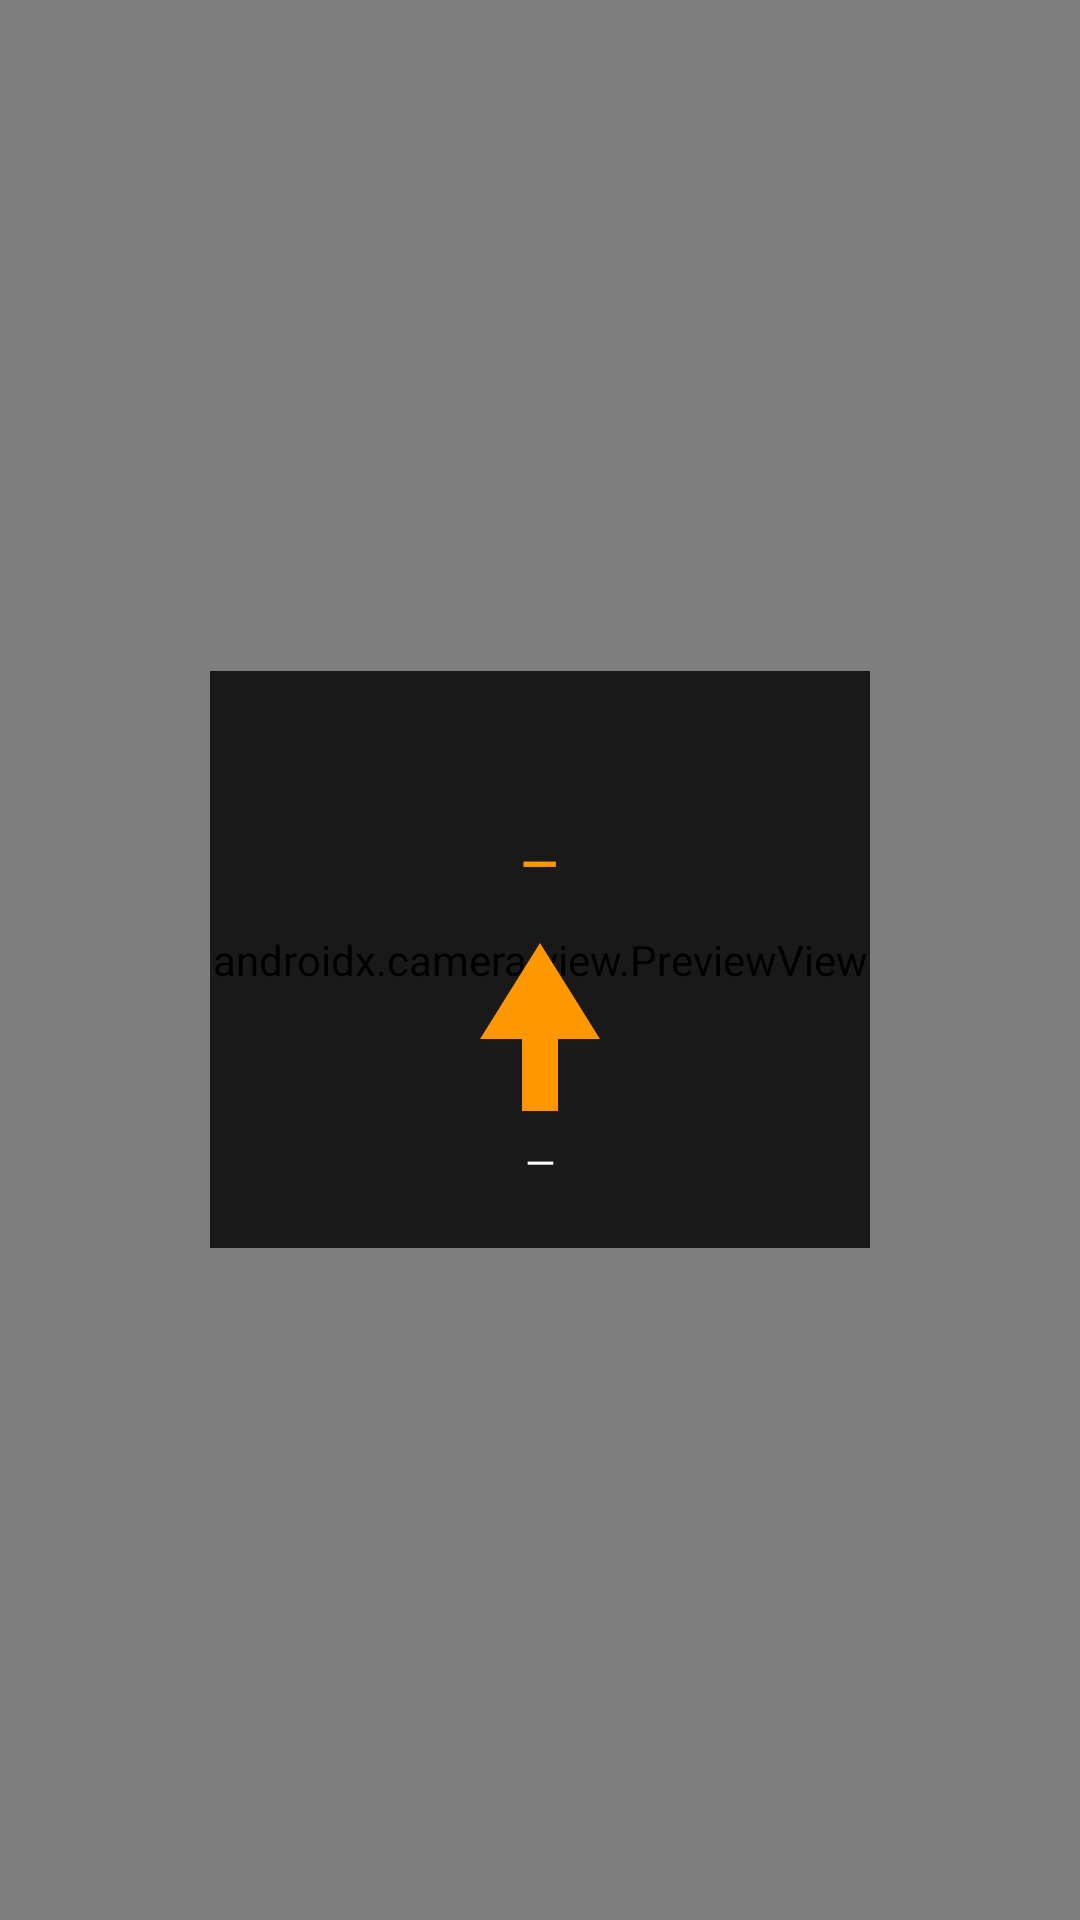

Screen size 1080px x 1920px. Icon name, then its box in pixels as (x1, y1, x2, y2):
Стрелка към хотела: (471, 943, 626, 1111)
